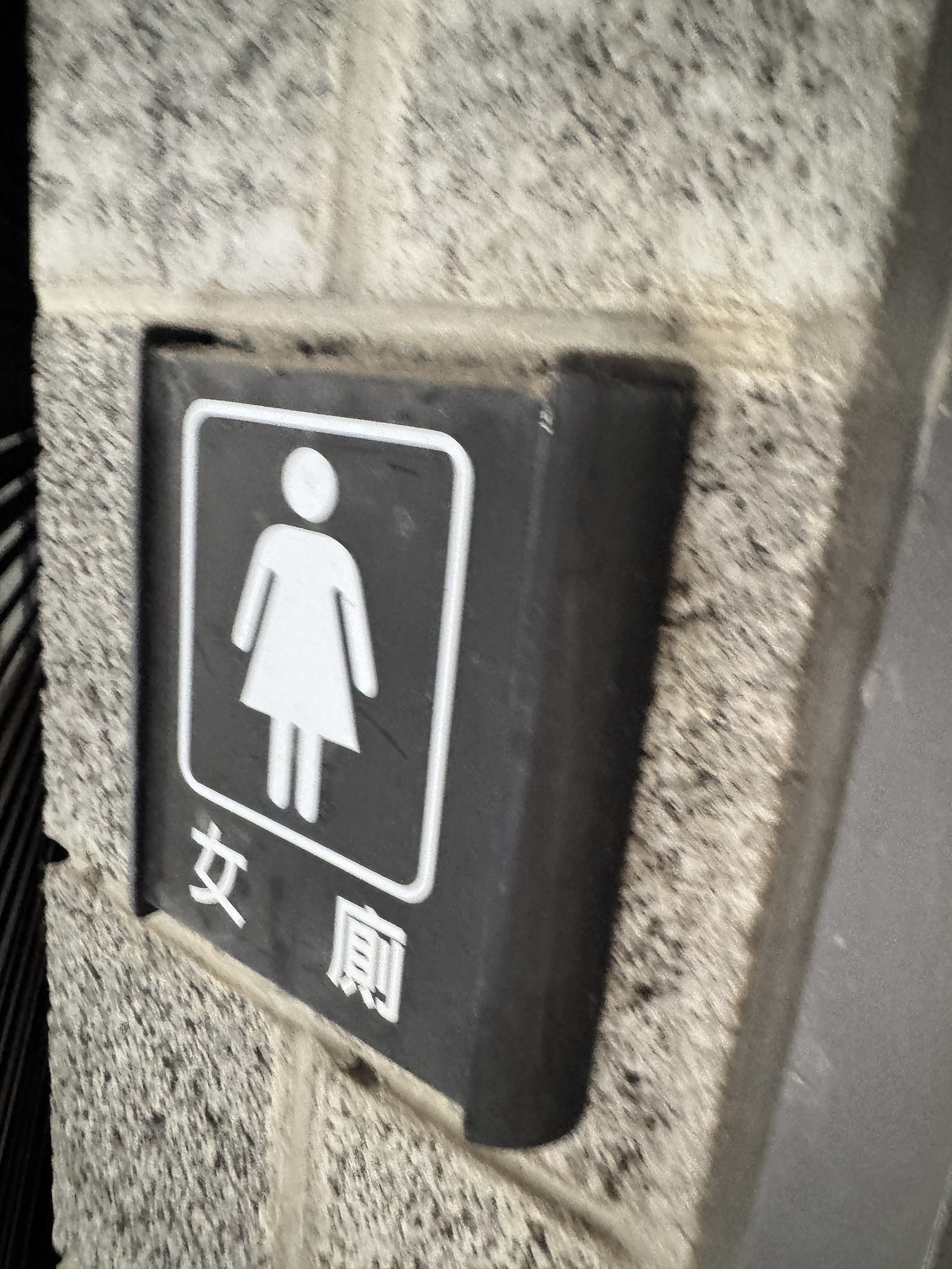toilet_sign: (111, 310, 711, 1168), (102, 316, 666, 1167)
